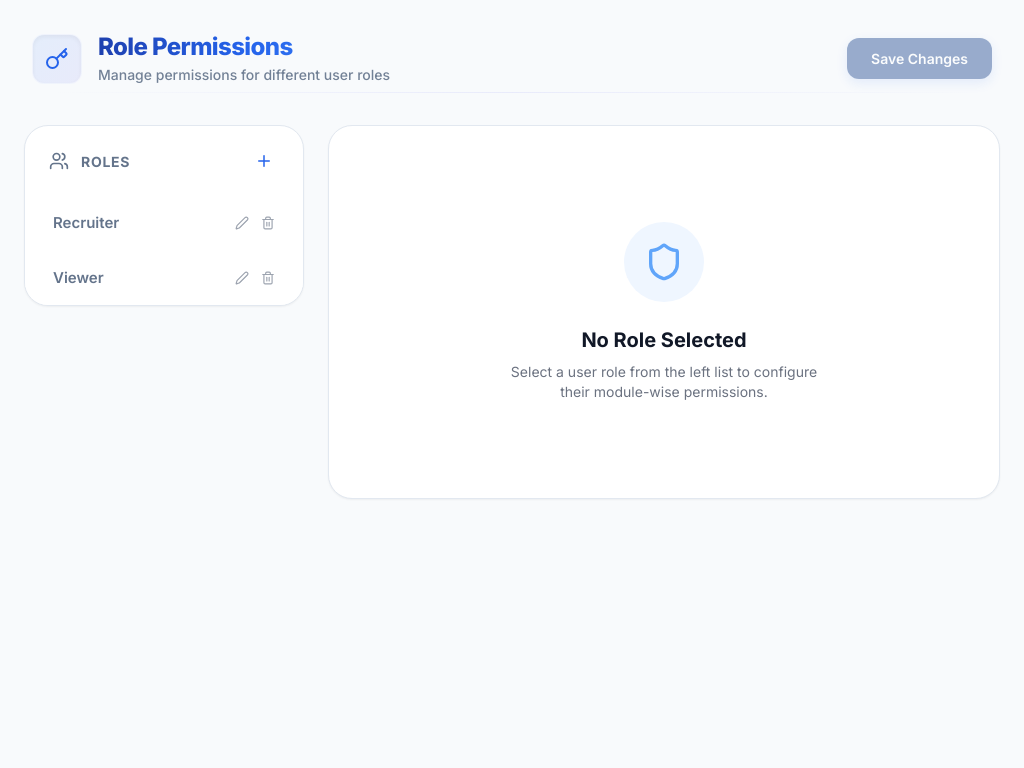
Test: refreshes role usage when a user was assigned after the role list loaded
The width and height of the screenshot is (1024, 768).
Click the button named "Delete Recruiter".
click(268, 223)  # box [257, 212, 279, 234]
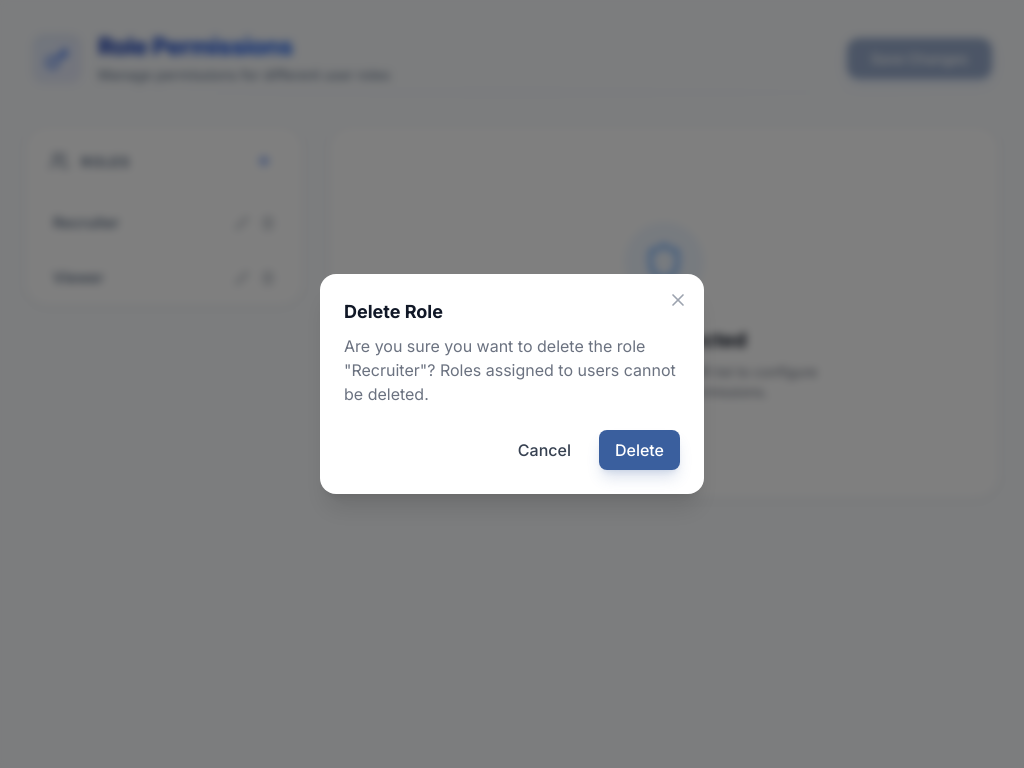
Click the button "Delete".
click(639, 450)  # box [599, 430, 680, 470]
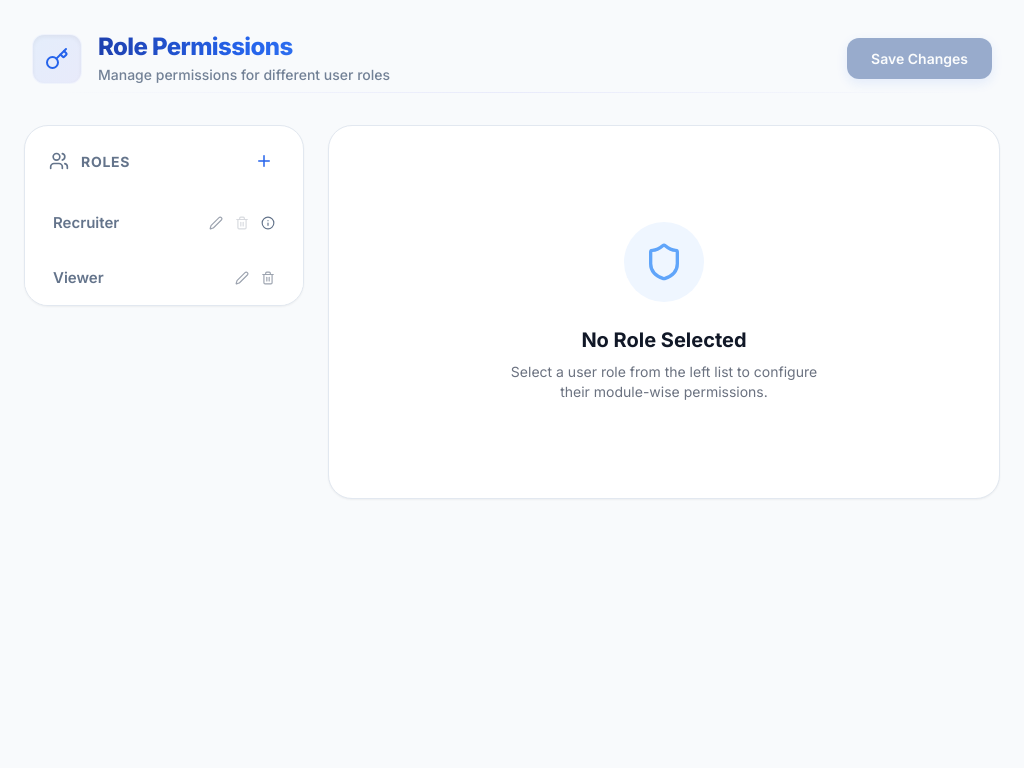
Now the button named "Delete Recruiter" is disabled, box [231, 212, 253, 234]
Now the heading "Delete Role" is gone
